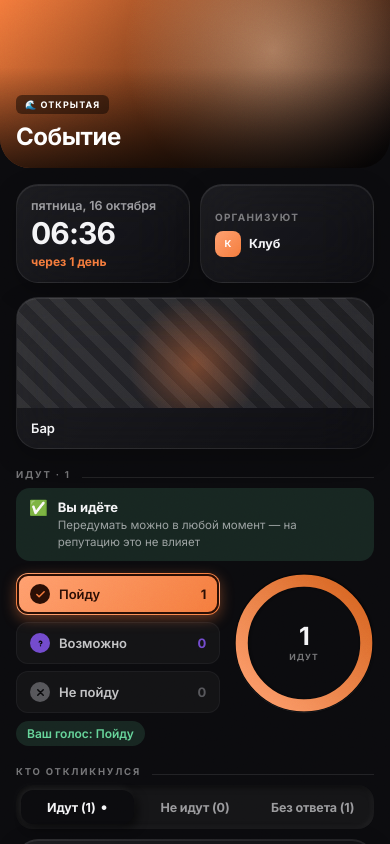
EventPage — открытая встреча v3: одноэтапная (§ 16) › AC-OPEN11: менеджер видит «Без ответа» и может напомнить до старта
Step 1. Click the button "Без ответа (1)" → {"x": 313, "y": 807}, box [256,790,369,824]
(page scrolled)
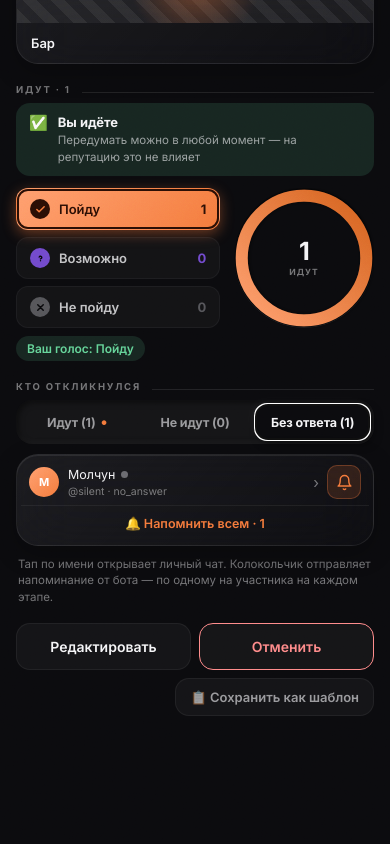
Expected: the text "Молчун" is shown, [68,467,128,482]
Expected: the button "🔔 Напомнить всем · 1" is shown, [21,505,369,541]
